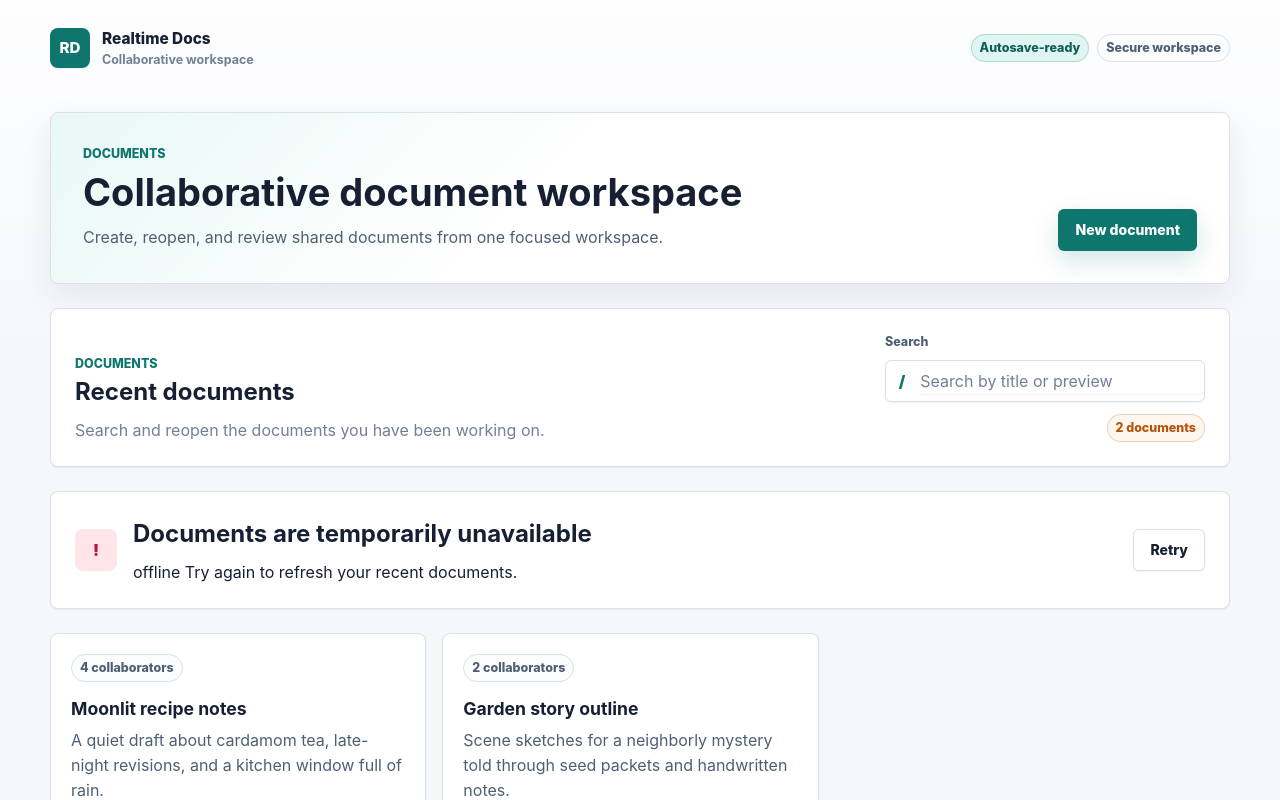
Test case: HomePage › retries the document list through the same backend loading path
Check: the heading "Documents are temporarily unavailable" is shown, box left=133, top=519, right=592, bottom=548
Click the button "Retry": (1169, 550) left=1133, top=529, right=1205, bottom=571
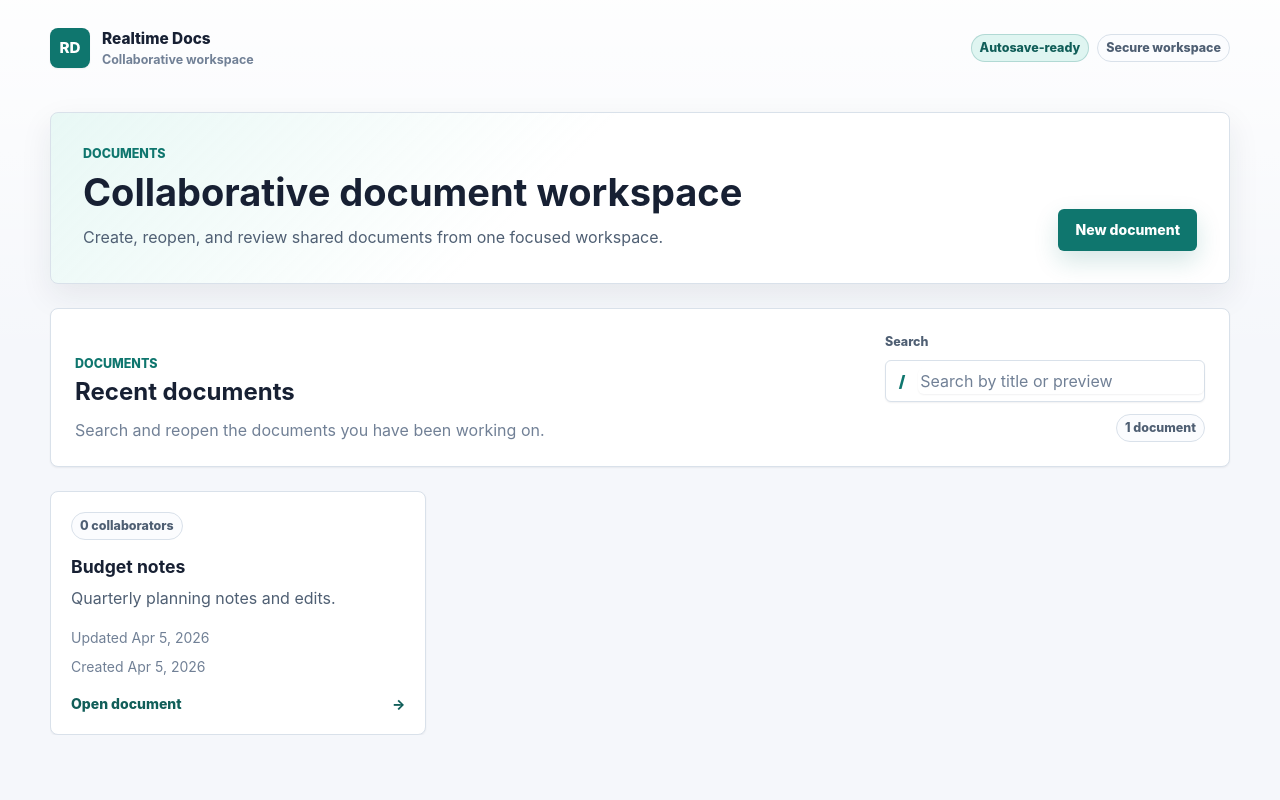
Check: the heading "Budget notes" is shown, box left=71, top=556, right=185, bottom=577
Check: the text "1 document" is shown, box left=1116, top=414, right=1205, bottom=442
Check: the heading "Documents are temporarily unavailable" is gone
